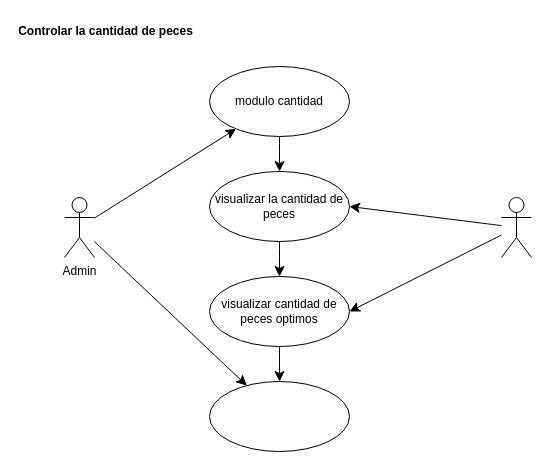
Image size: 555x469. Some labels were removed from this diagram. The box of each missing label's shape, as (x1, y1, x2, y2) in pixels:
sacar peces innecesarios: (208, 380, 350, 452)
Sistema: (500, 196, 532, 258)
